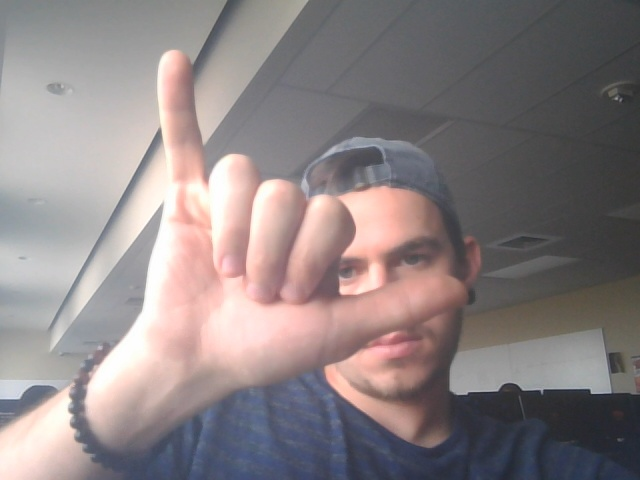birdsup: (148, 45, 481, 403)
